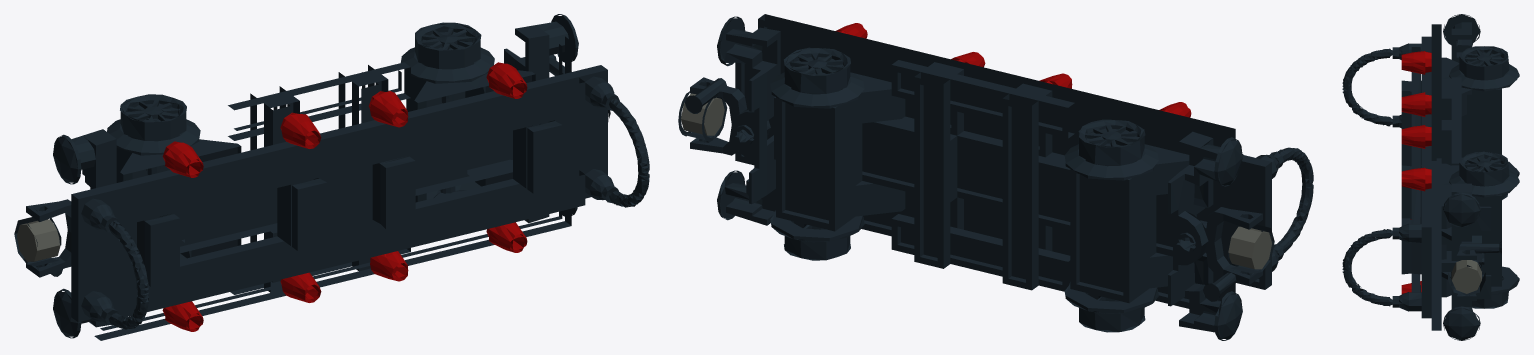
Rendered from container-crane-depot.glb.
3 views of the same model, side by side, from view 1: azimuth 30°, elevation 25°; view 2: azimuth 150°, elevation 25°; view 3: azimuth 270°, elevation 25° (orthographic). The views are drawn at different scales.
Bounding box in the file's own units: 155 × 52 × 56.46.
